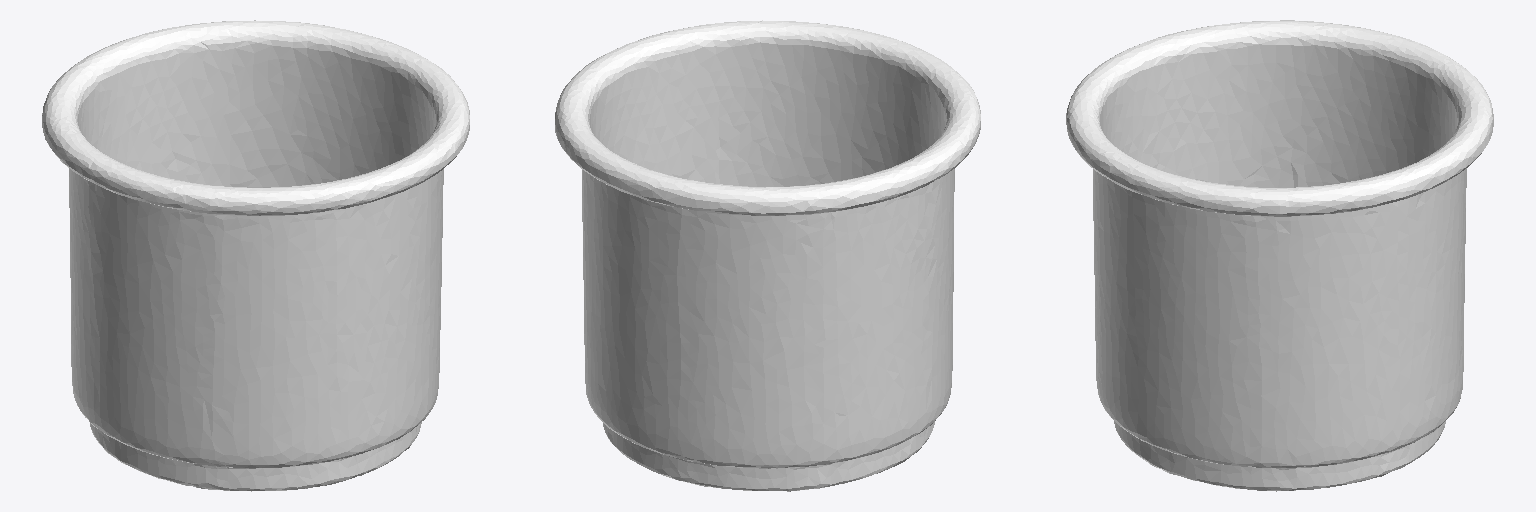
robot.urdf — 043_phillips_screwdriver:
<robot name="043_phillips_screwdriver">
	<link name="_name">
		<visual>
			<origin xyz="-0.026626279153952586 -0.2222386939344705 -0.16372275537983522" rpy="0 0 0" />
			<geometry>
				<mesh filename="043_phillips_screwdriver/google_16k/textured.obj" scale="10 10 10" />
			</geometry>
			<material name="texture">
				<color rgba="1.0 1.0 1.0 1.0" />
			</material>
		</visual>
		<collision>
			<geometry>
				<mesh filename="043_phillips_screwdriver/google_16k/textured_vhacd.obj" scale="10 10 10" />
			</geometry>
		<origin xyz="-0.026626279153952586 -0.2222386939344705 -0.16372275537983522" rpy="0 0 0" /></collision>
		<inertial>
			<mass value="1.0" />
			<inertia ixx="1.0" ixy="0.0" ixz="0.0" iyy="1.0" iyz="0.0" izz="1.0" />
		</inertial>
	</link>
</robot>

--- Render facts (derived) ---
Views: 3 orthographic renders of the robot side by side, from view 1: azimuth 30°, elevation 25°; view 2: azimuth 150°, elevation 25°; view 3: azimuth 270°, elevation 25°.
Robot: 043_phillips_screwdriver — 1 links, 0 joints (none); root link _name; default pose: every joint at zero.
Links seen in each view (by area): view 1: _name; view 2: _name; view 3: _name.
Link boxes in pixels (bbox=[...]): _name: bbox=[42, 20, 469, 491]; _name: bbox=[555, 20, 980, 491]; _name: bbox=[1066, 20, 1493, 491].
Size in the robot's own frame: 0.915 by 0.9162 by 0.7506 metres.
1 mesh visuals loaded from 1 distinct referenced files (1 OBJ).